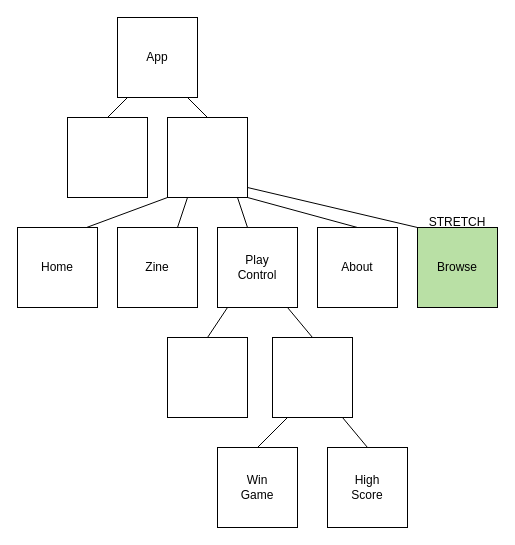
The diagram is 515 pixels wide and 545 high, and some of its shapes have lost their labels. The centre of each missing label's shape, as x and y in pixels:
Game: [312,377]
Header: [107,157]
Play: [207,377]
Site Control: [207,157]
